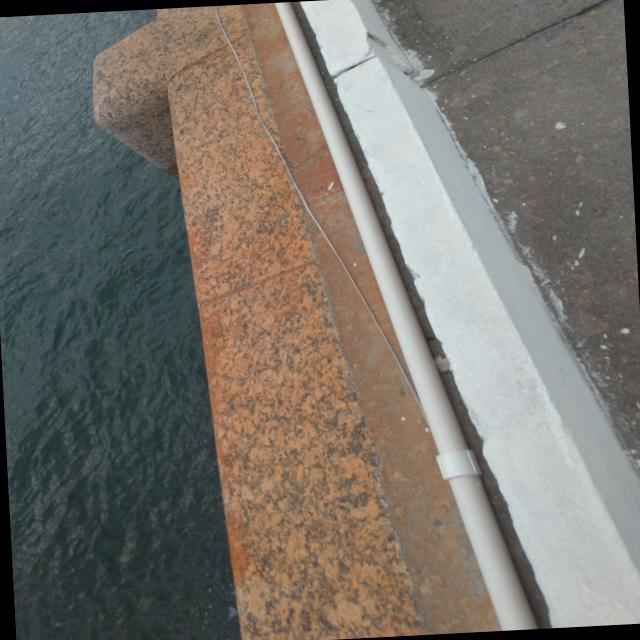gas: (276, 1, 537, 631)
